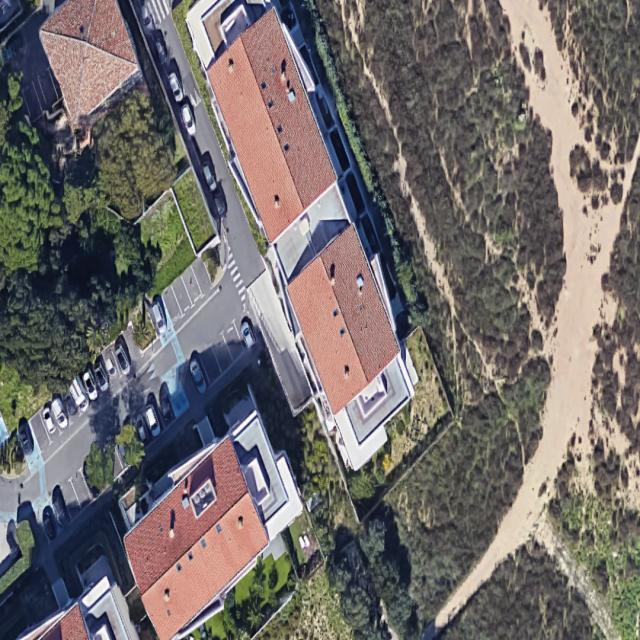immeuble: (90, 433, 301, 640), (194, 7, 348, 244), (274, 225, 414, 413), (30, 0, 152, 128)
